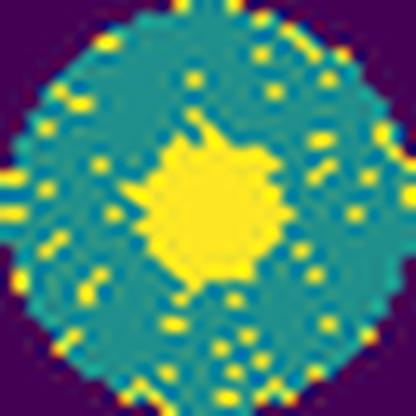Center: (132, 131, 296, 283)
